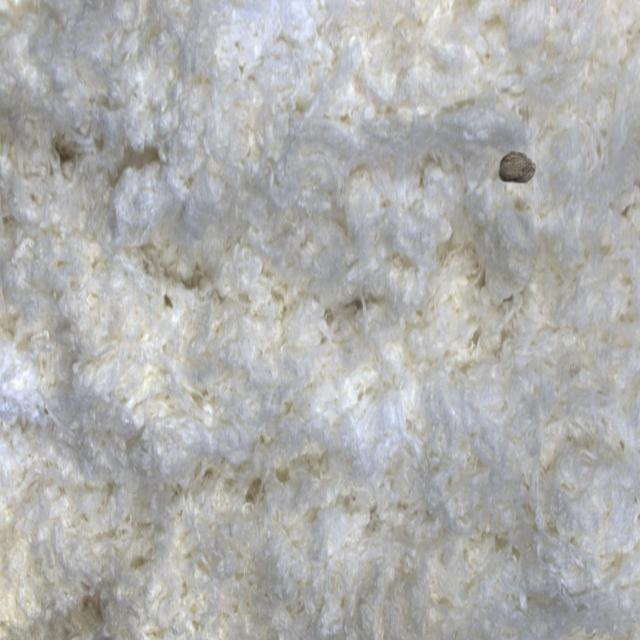dust: (480, 98, 565, 219)
